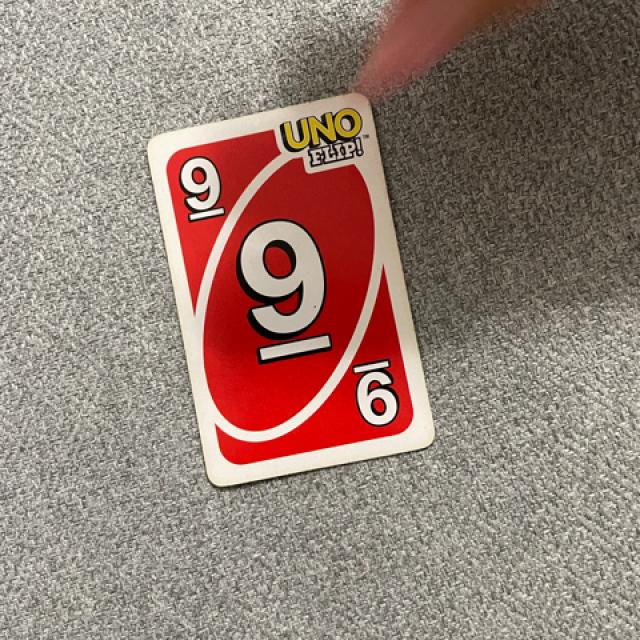lred-9: (170, 147, 243, 230)
